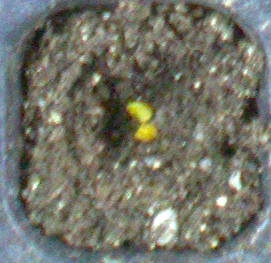chilli seed: (126, 101, 152, 122), (133, 123, 157, 142)
